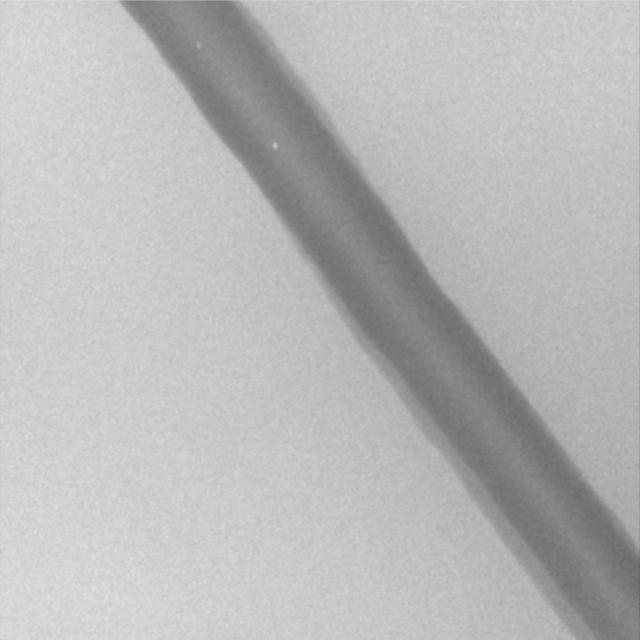air hole: (193, 39, 201, 51), (271, 141, 279, 152)
